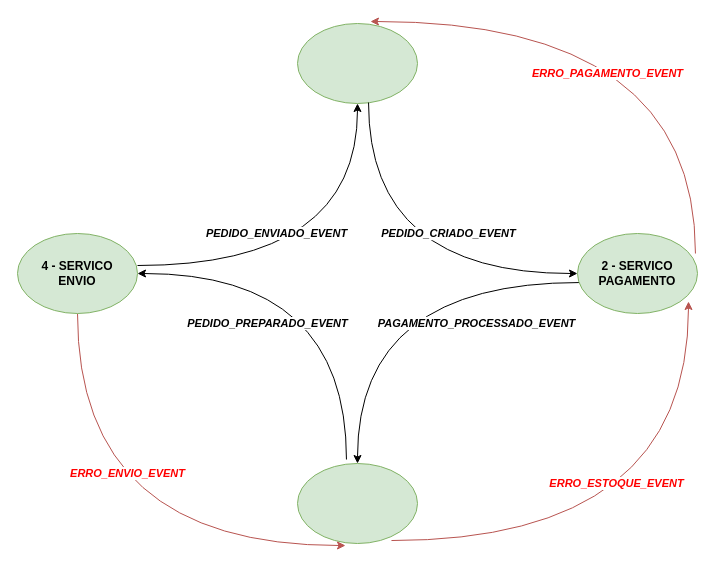
This 715x566 diagram has some shape labels left out. The box of each missing label's shape, as (x1, y1, x2, y2) in pixels:
1 - SERVICO PEDIDO: (296, 22, 418, 104)
3 - SERVICO ESTOQUE: (296, 462, 418, 544)
